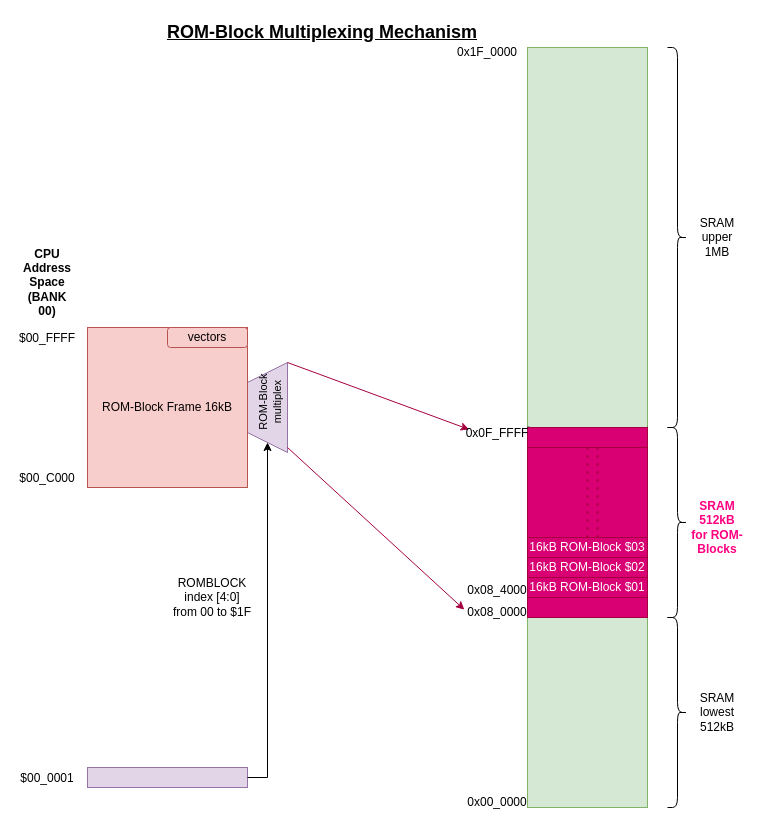
This 764x826 diagram has some shape labels left out. The shapes that lost their labels are listed below. From the top down, each one's box as (x1, y1, x2, y2) in pixels, then its label:
(526, 426, 648, 448): 16kB ROM-Block $1F
(526, 596, 648, 618): 16kB ROM-Block $00
(86, 766, 248, 788): ROMBLOCK reg (1B)
